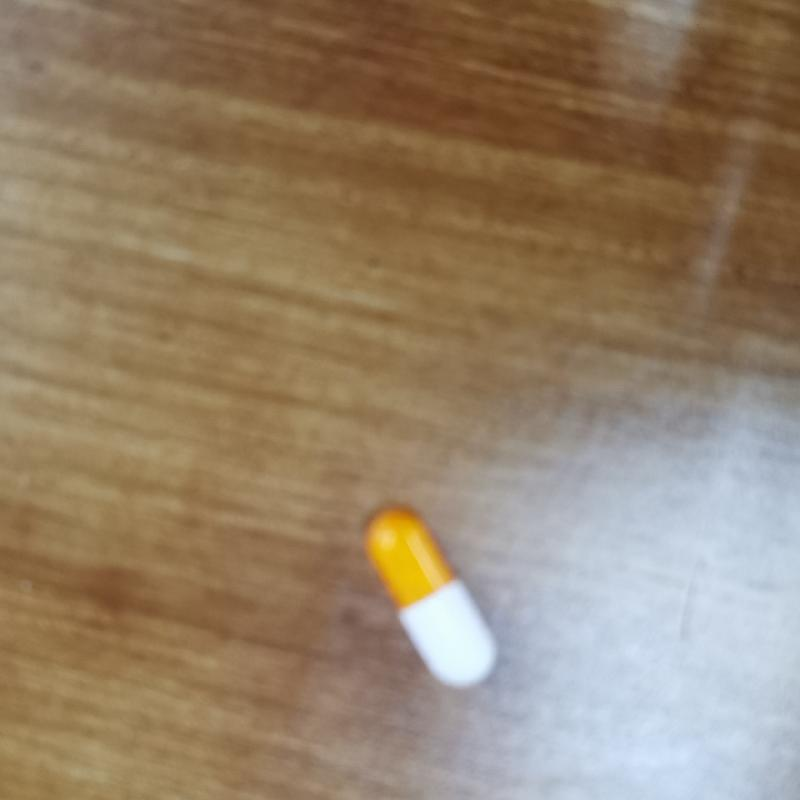pills: (361, 498, 518, 711)
